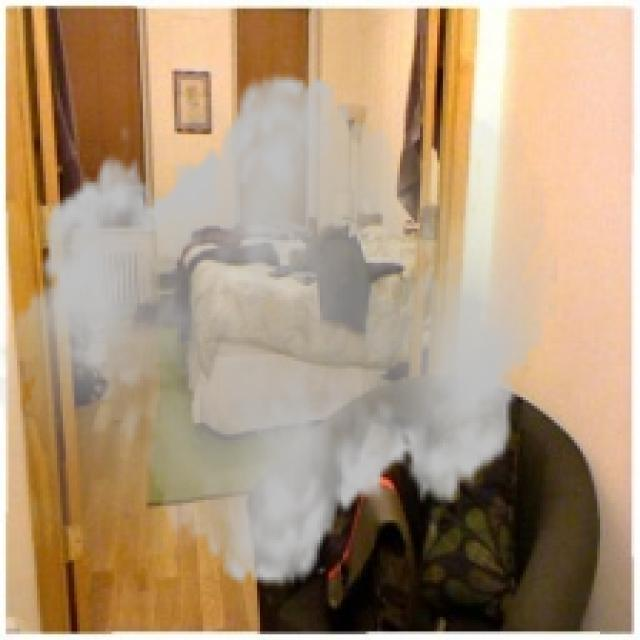Smoke: (0, 51, 557, 608)
